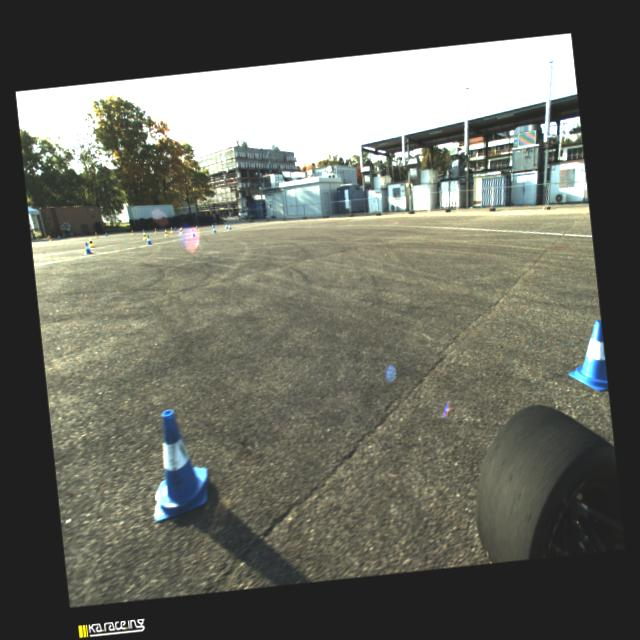blue_cone: (141, 405, 213, 522), (562, 318, 608, 394), (83, 241, 93, 254), (144, 233, 152, 245), (190, 228, 196, 236), (212, 225, 216, 232), (228, 223, 232, 229), (224, 222, 228, 228), (56, 234, 60, 239), (104, 230, 107, 236), (194, 224, 198, 228), (173, 225, 176, 230), (211, 224, 213, 228), (142, 228, 144, 232)
yellow_cone: (86, 236, 95, 248), (163, 228, 168, 236), (142, 232, 146, 240), (48, 234, 52, 242), (178, 227, 182, 234), (169, 226, 173, 232), (153, 226, 157, 232), (130, 228, 134, 234), (94, 232, 98, 238), (180, 226, 183, 232)
